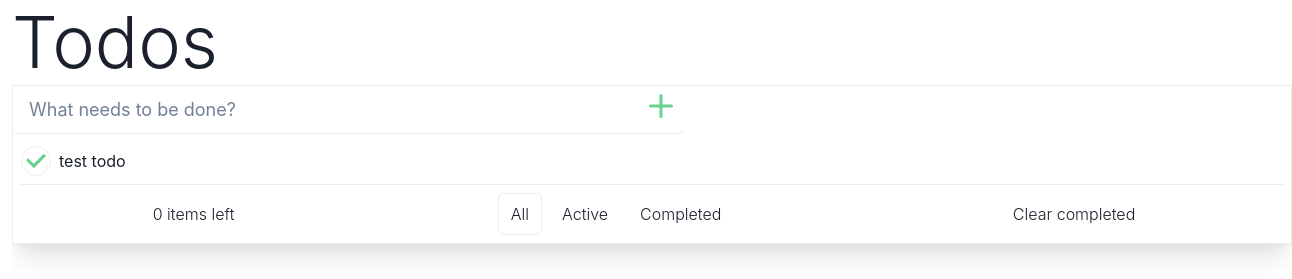
Test: Todos page tests › complete todo work
Expected: the icon with test id "check-icon" is shown, [26,151,46,171]
Click the button with test id "icon-button" at (36, 161), box [16,141,56,181]
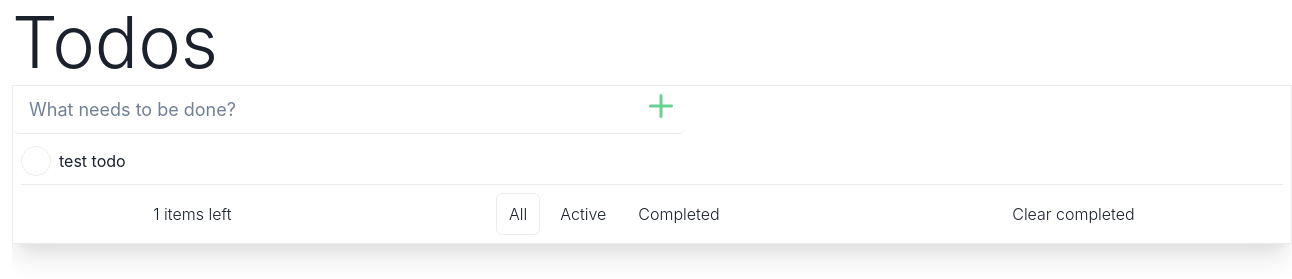
Expected: the icon with test id "check-icon" is gone
